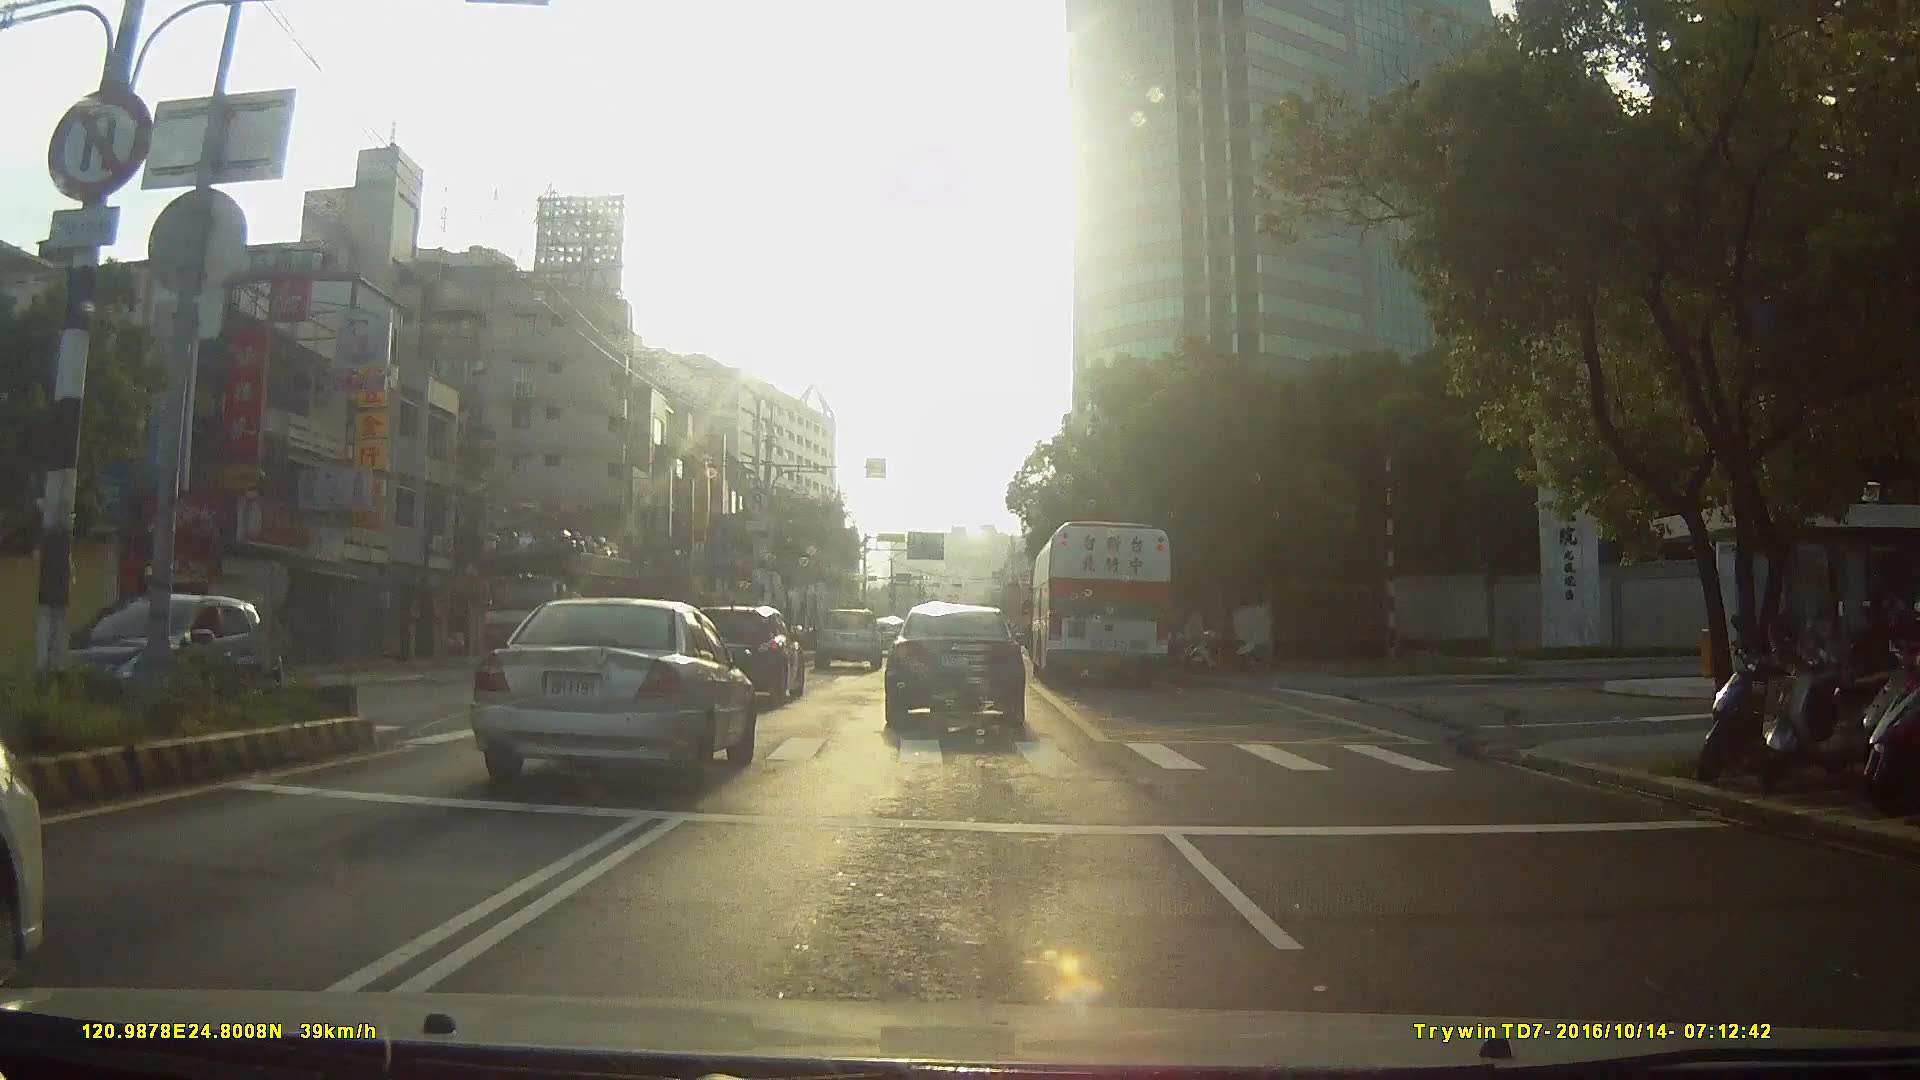vehicle: (460, 596, 756, 794), (57, 589, 290, 713), (1029, 518, 1174, 691), (881, 600, 1025, 732), (683, 607, 804, 708), (814, 607, 884, 673)
